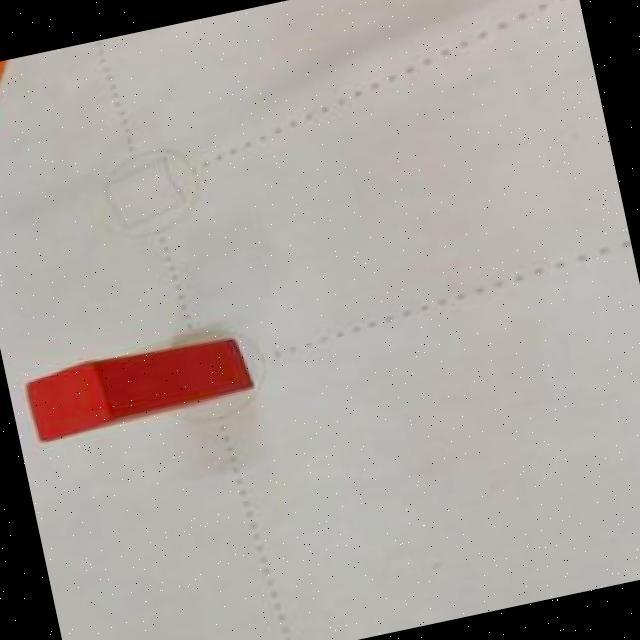redbox: (20, 330, 254, 442)
